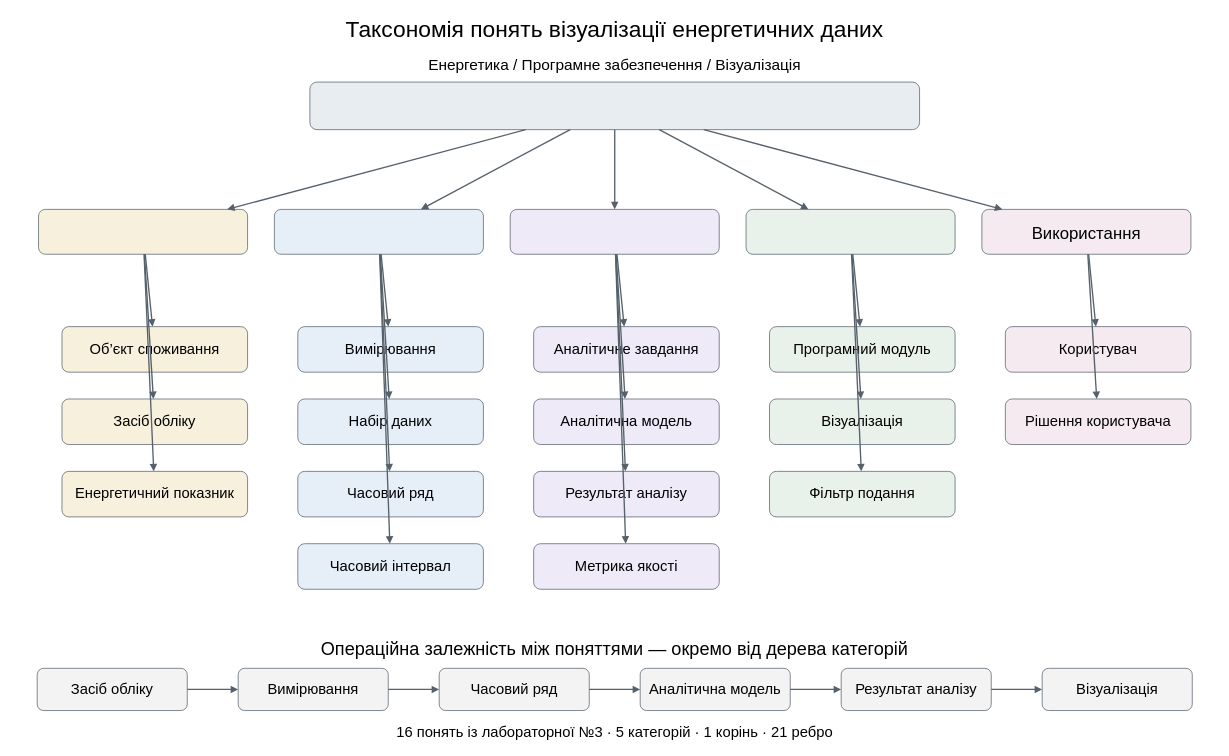
The diagram is 1229 pixels wide and 756 high, and some of its shapes have lost their labels. The box of each missing label's shape, as (x1, y1, x2, y2) in pixels:
Аналітика: (510, 209, 719, 254)
Візуалізація енергетичних даних: (309, 81, 920, 130)
Дані споживання: (274, 209, 483, 254)
Енергетичний контекст: (38, 209, 248, 254)
Програмне подання: (745, 209, 955, 254)
